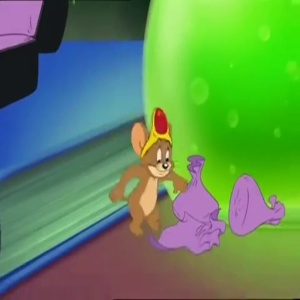Jerry: (129, 115, 181, 176)
